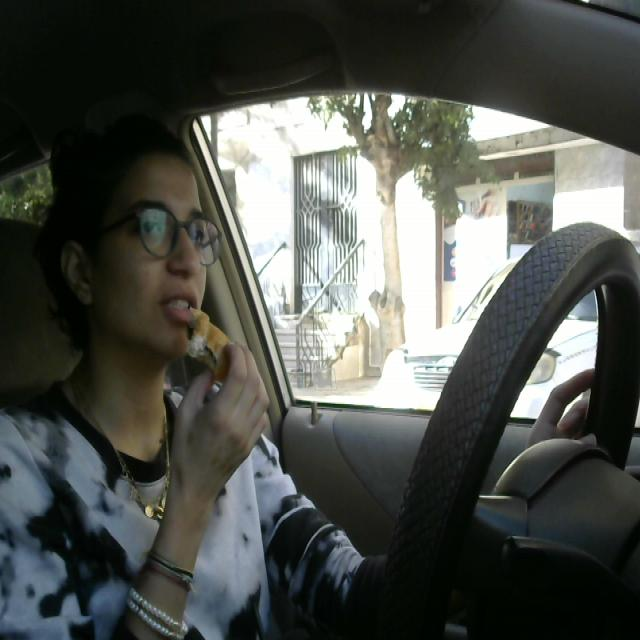eating: (165, 281, 248, 405)
